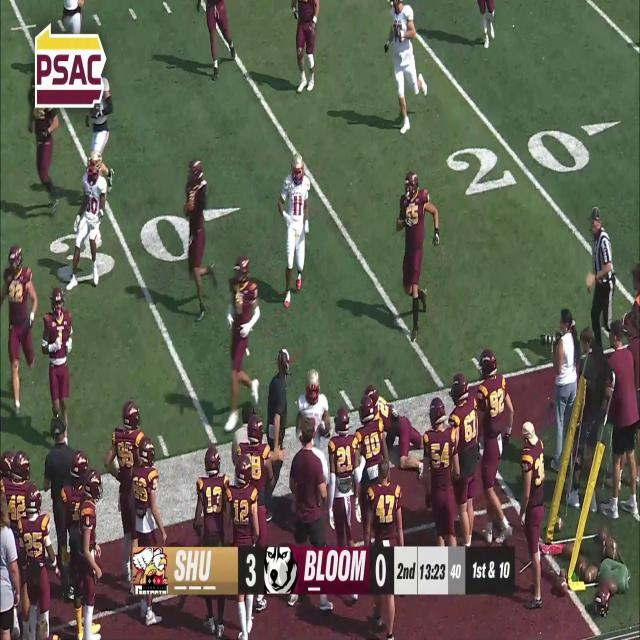football: (317, 415, 331, 437)
